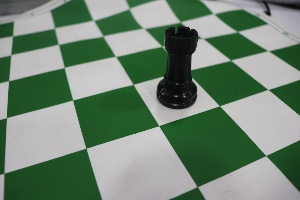black_rook: (150, 10, 203, 118)
